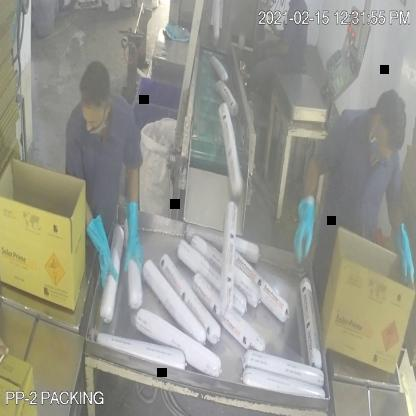glove: (81, 203, 122, 294), (113, 195, 154, 277), (383, 210, 416, 292), (288, 192, 322, 270)
